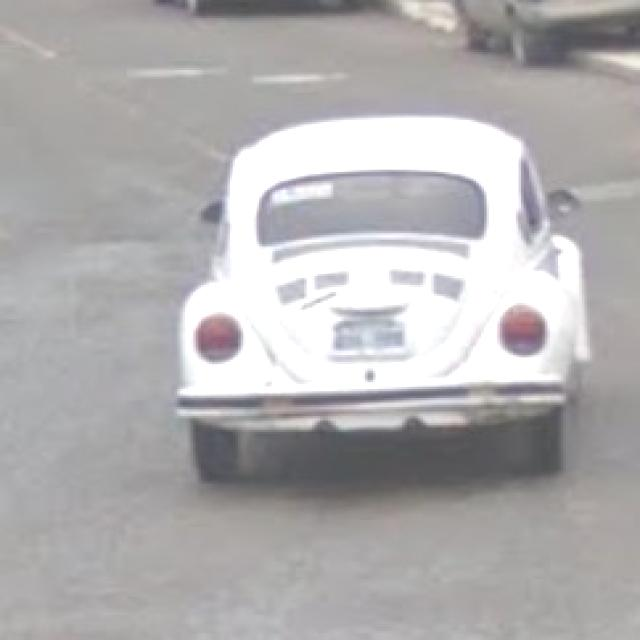car: (177, 126, 589, 483)
